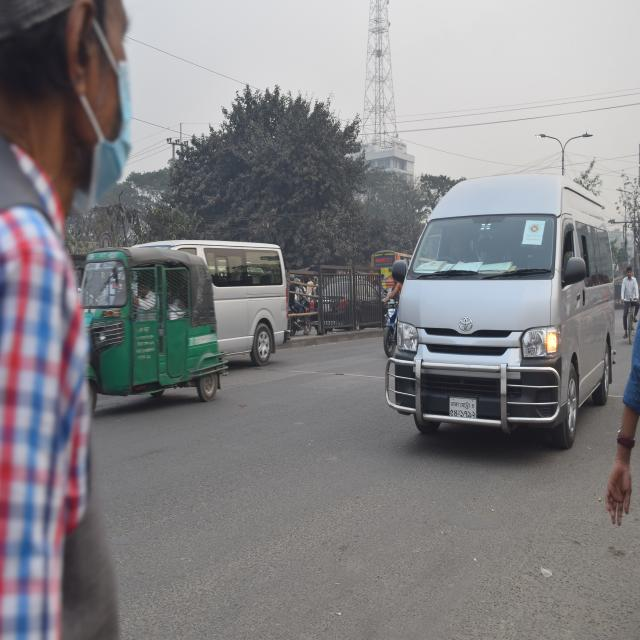car: (317, 265, 383, 339)
microbus: (390, 140, 620, 449), (165, 242, 295, 360)
motorbike: (302, 271, 334, 335)
